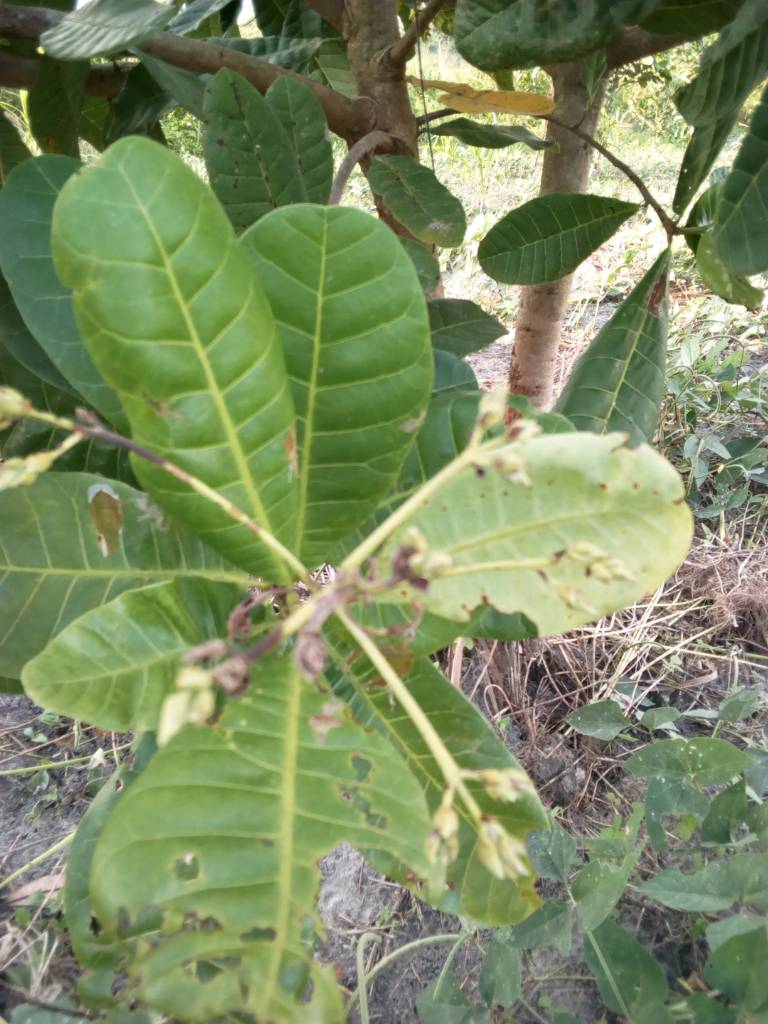Anoplocnemis curvipes: (127, 732, 402, 1024)
